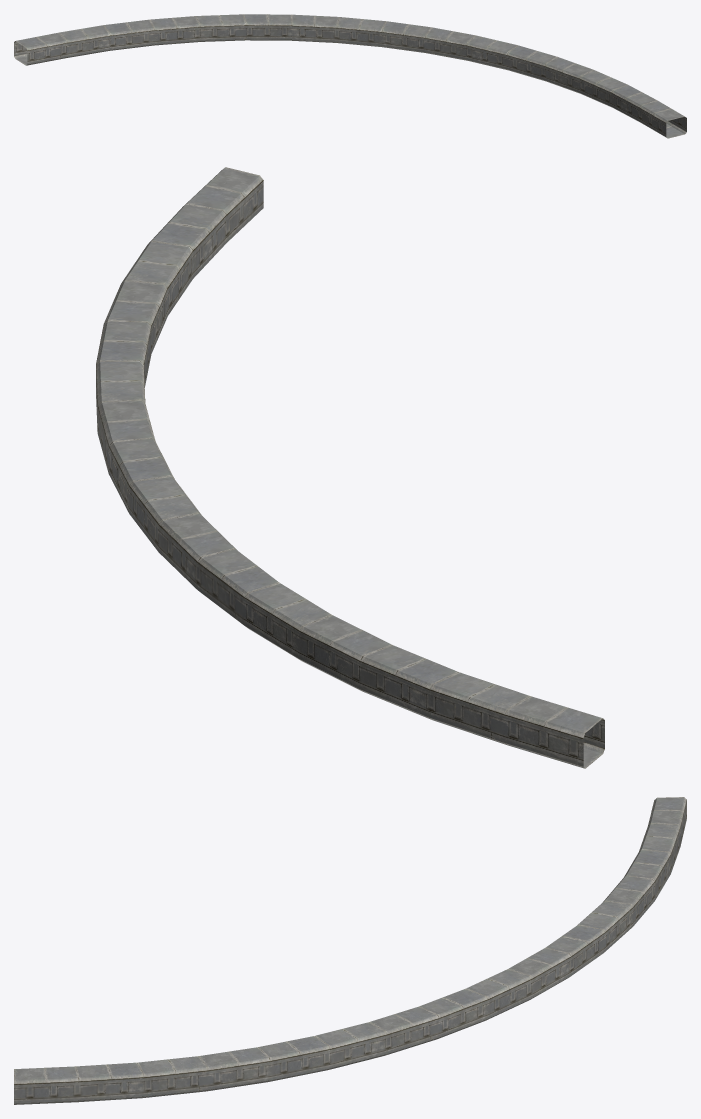
Rendered from FBX_Trim_Corner.fbx.
3 views of the same model, one above another, from view 1: azimuth 30°, elevation 25°; view 2: azimuth 150°, elevation 25°; view 3: azimuth 270°, elevation 25° (orthographic). The views are drawn at different scales.
Visible parts, largest first — view 1: Trim_Corner; view 2: Trim_Corner; view 3: Trim_Corner.
Boxes of the visible parts, x1,y1,x2,y2 form: Trim_Corner: [14, 14, 686, 138]; Trim_Corner: [96, 167, 604, 768]; Trim_Corner: [14, 797, 686, 1104].
Bounding box in the file's own units: 1026 × 40.9 × 1025.
1 material, 1 textured.
